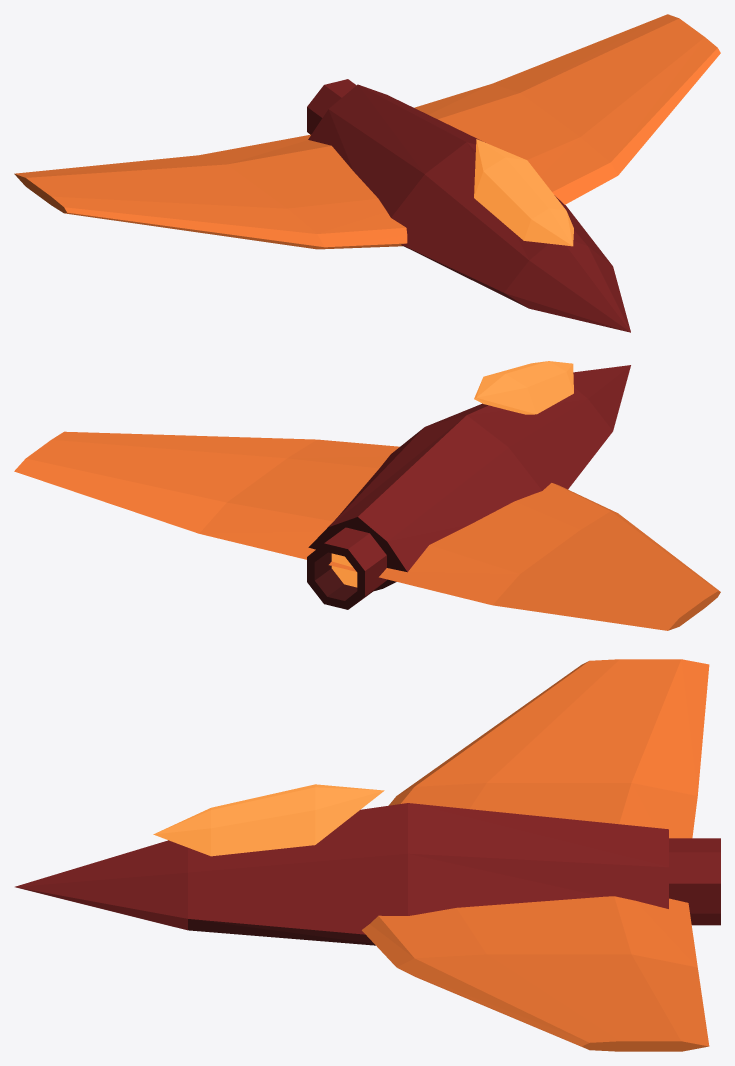
Rendered from arcwing-swarmling-hull.gltf.
3 views of the same model, one above another, from view 1: azimuth 30°, elevation 25°; view 2: azimuth 150°, elevation 25°; view 3: azimuth 270°, elevation 25° (orthographic). The views are drawn at different scales.
Parts seen in each view (by area): view 1: arcwing-swarmling; view 2: arcwing-swarmling; view 3: arcwing-swarmling.
Boxes of the visible parts, x1,y1,x2,y2 form: arcwing-swarmling: [14, 14, 720, 332]; arcwing-swarmling: [14, 361, 720, 630]; arcwing-swarmling: [15, 659, 720, 1051].
Bounding box in the file's own units: 1.56 × 0.2997 × 1.22.
